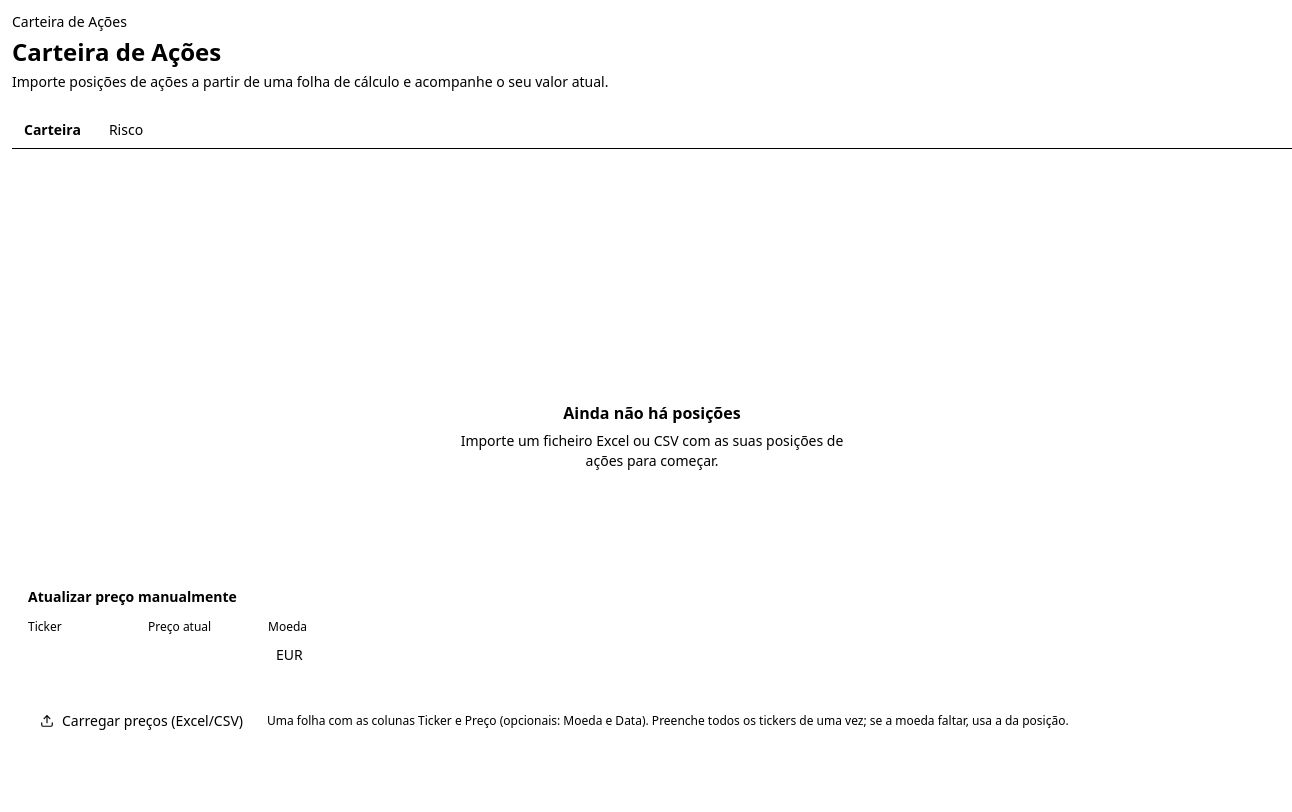
Test case: PortfolioPage — FASE 3 Risco tab › a manager sees the upload and 'fetch via API' actions; a viewer does not
The width and height of the screenshot is (1292, 812).
What coordinates should you click on to do the following:
click the button "Risco"
I would click on:
 (126, 130)
Its box is [97, 112, 155, 148].
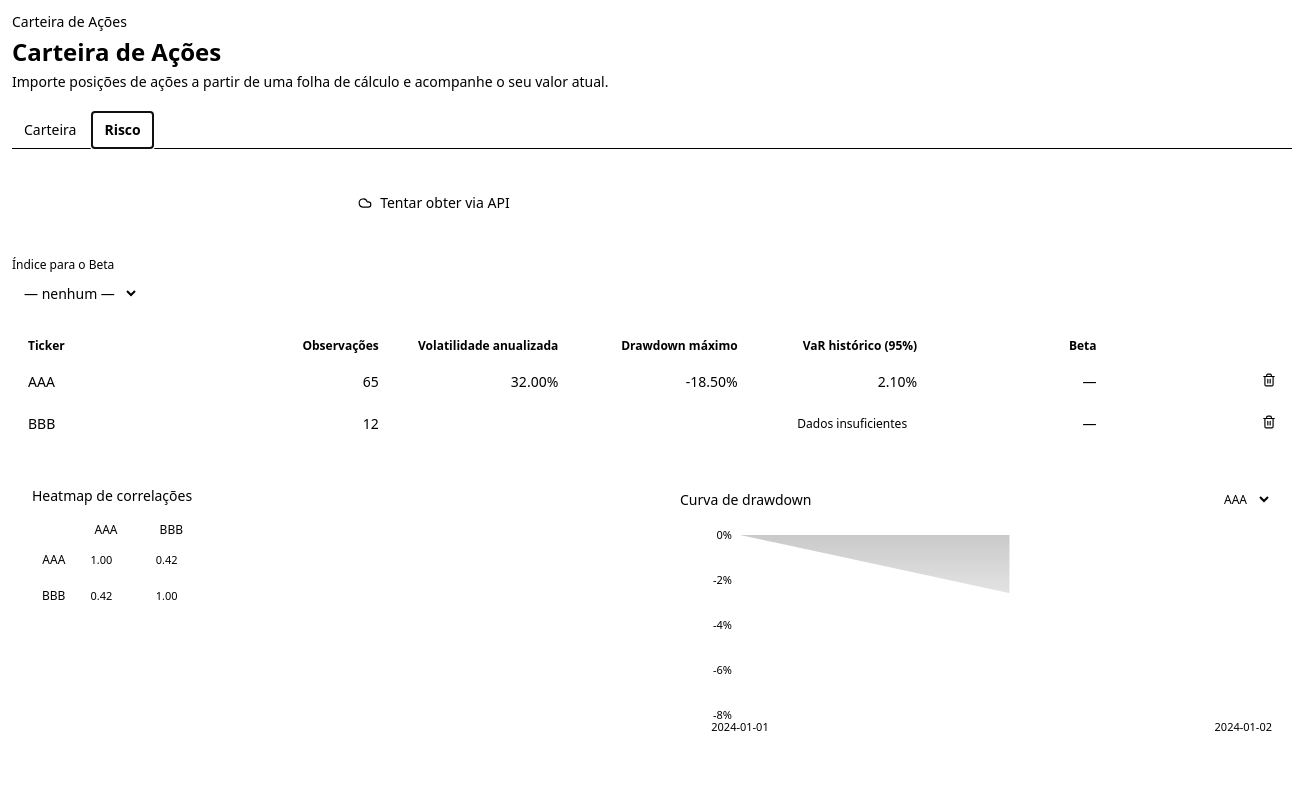
Now the button "Tentar obter via API" is shown, box [346, 185, 522, 221]
